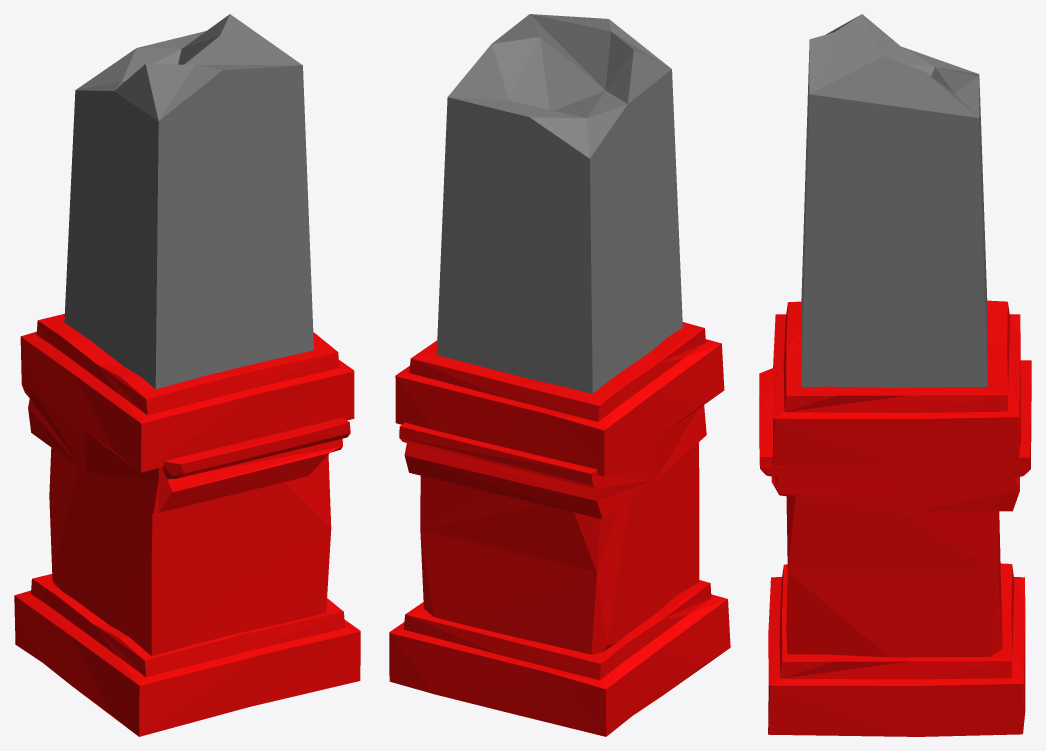
File: PillarObelisk03.fbx
The picture shows the model from 3 angles, left to right: view 1: azimuth 30°, elevation 25°; view 2: azimuth 150°, elevation 25°; view 3: azimuth 270°, elevation 25°; orthographic projection. The views are drawn at different scales.
Parts seen in each view (by area): view 1: PillarObelisk03; view 2: PillarObelisk03; view 3: PillarObelisk03.
Boxes of the visible parts, x1,y1,x2,y2 form: PillarObelisk03: [14, 14, 360, 736]; PillarObelisk03: [389, 14, 730, 736]; PillarObelisk03: [759, 14, 1031, 736].
Bounding box in the file's own units: 140 × 375 × 145.
